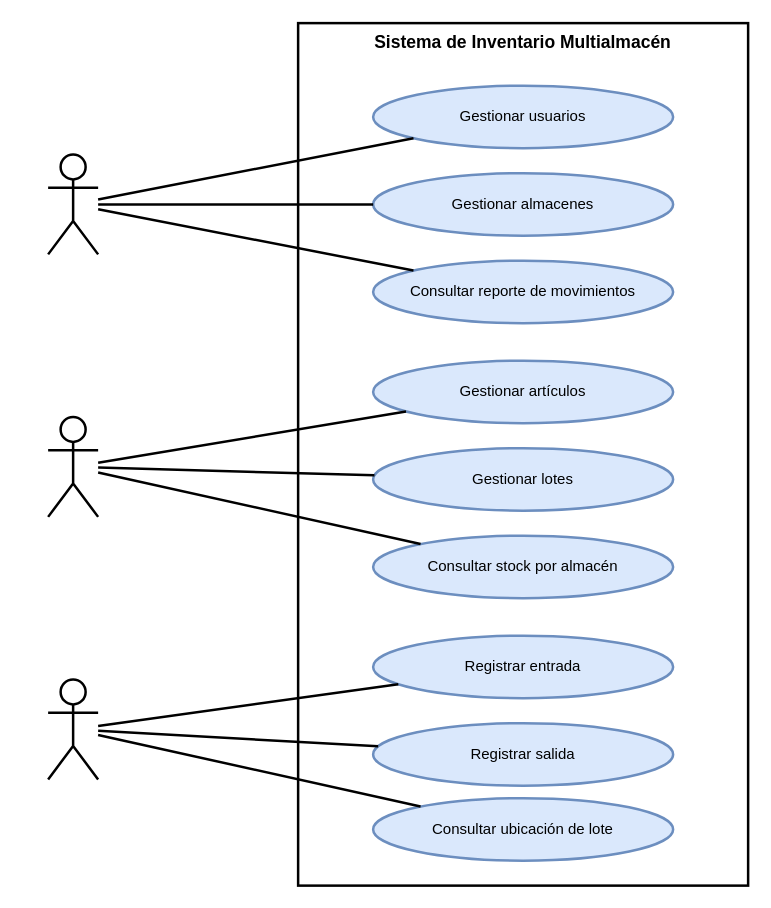
Image size: 771x908. Some labels were removed from this diagram. Each missing label, with the centre of its shape:
Administrador: the point at 72,203
Bodeguero: the point at 72,729
Jefe de bodega: the point at 72,466
